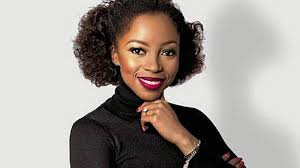black_female: (69, 2, 221, 112)
